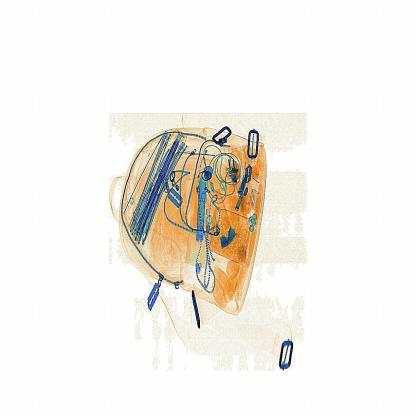pliers: (190, 164, 218, 245)
